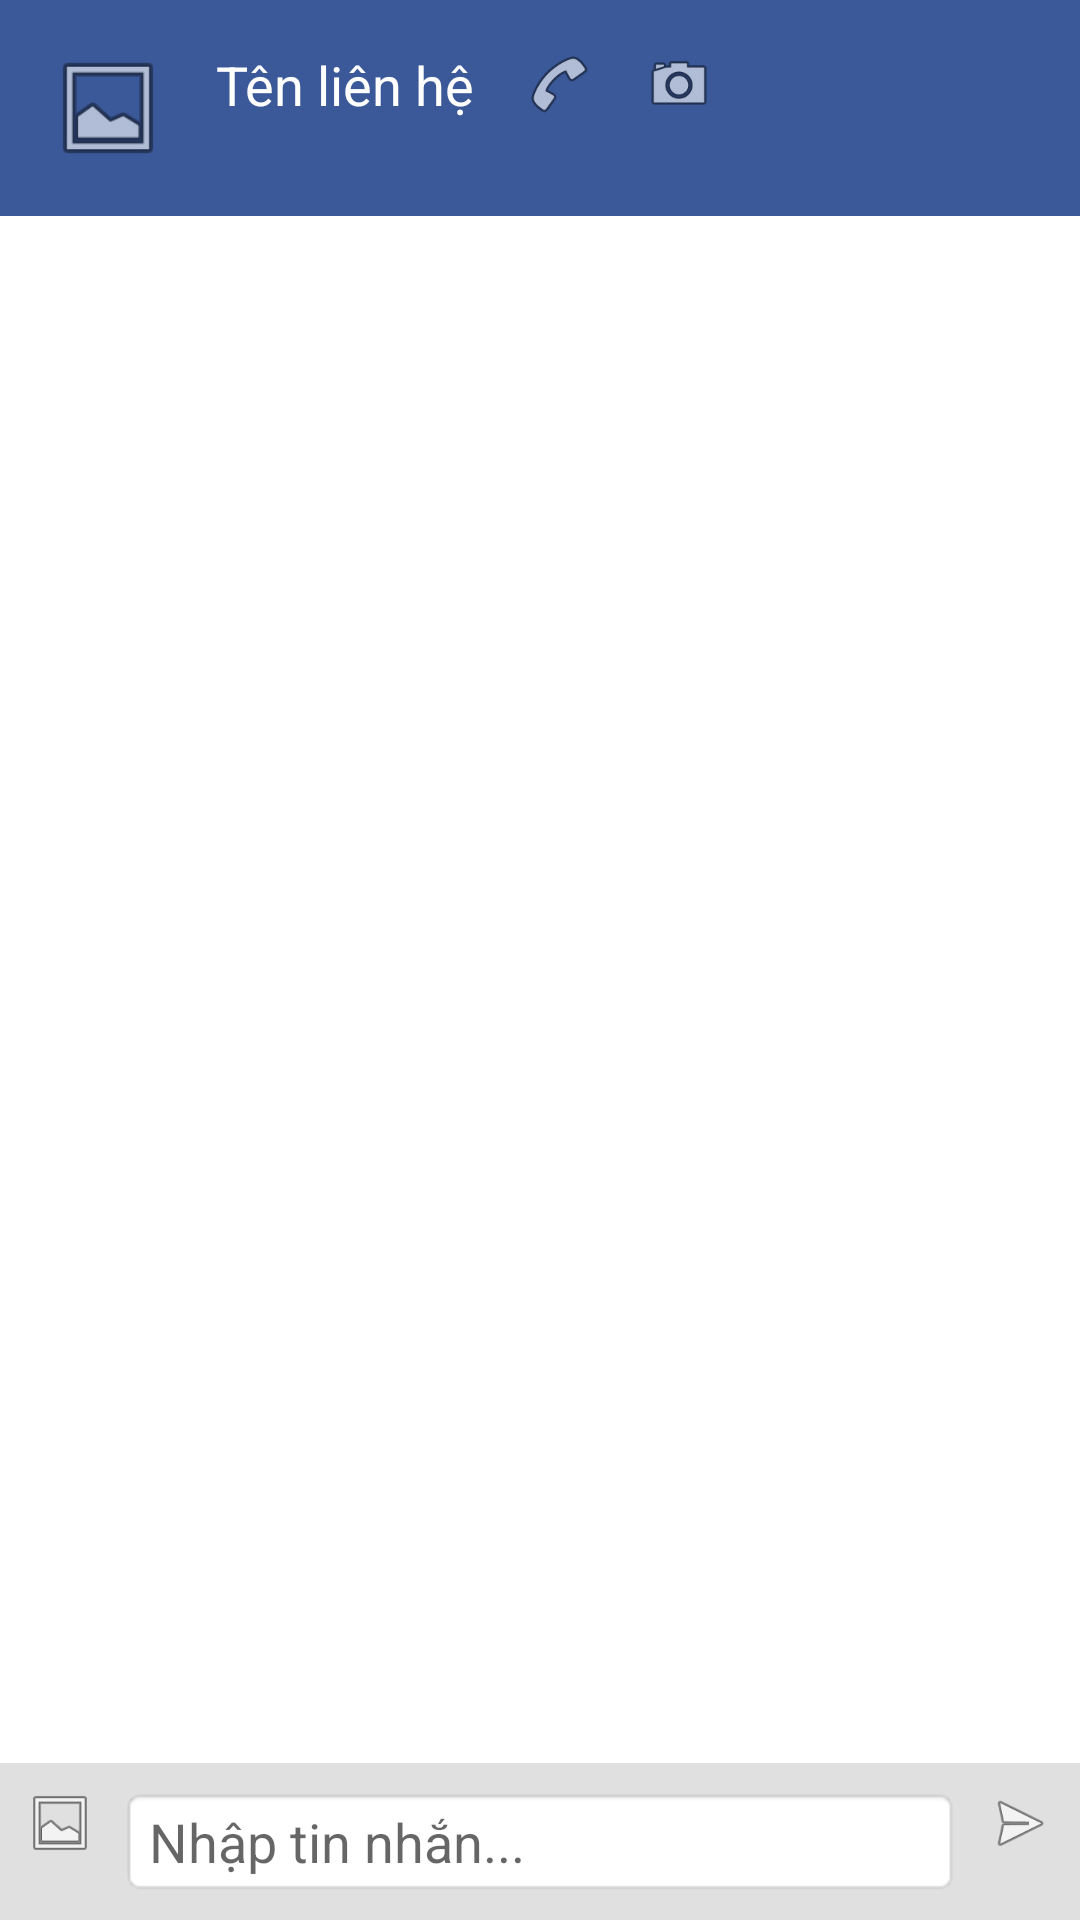

Locate icon controls on the screen. Image size 1080 × 1920, boxes as (x1, y1, x2, y2).
call: (531, 56, 587, 112)
camera: (651, 61, 707, 105)
gallery: (63, 63, 153, 153), (33, 1796, 87, 1850)
send: (998, 1801, 1044, 1846)
